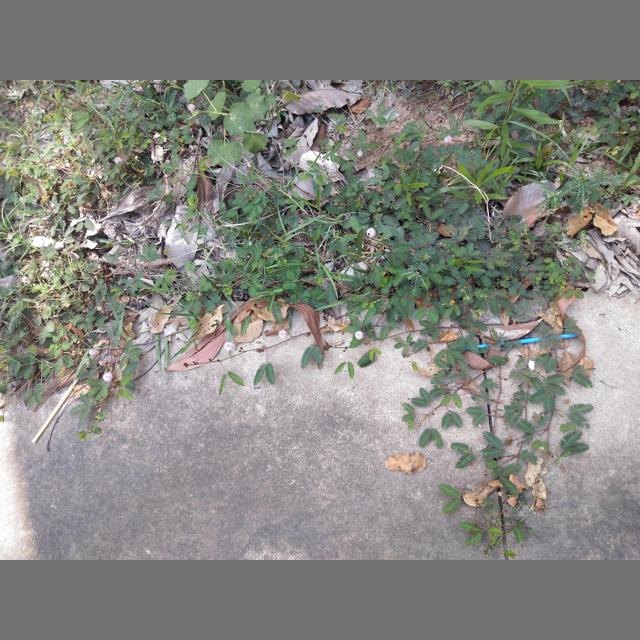litter: (32, 378, 78, 442), (464, 333, 579, 351)
